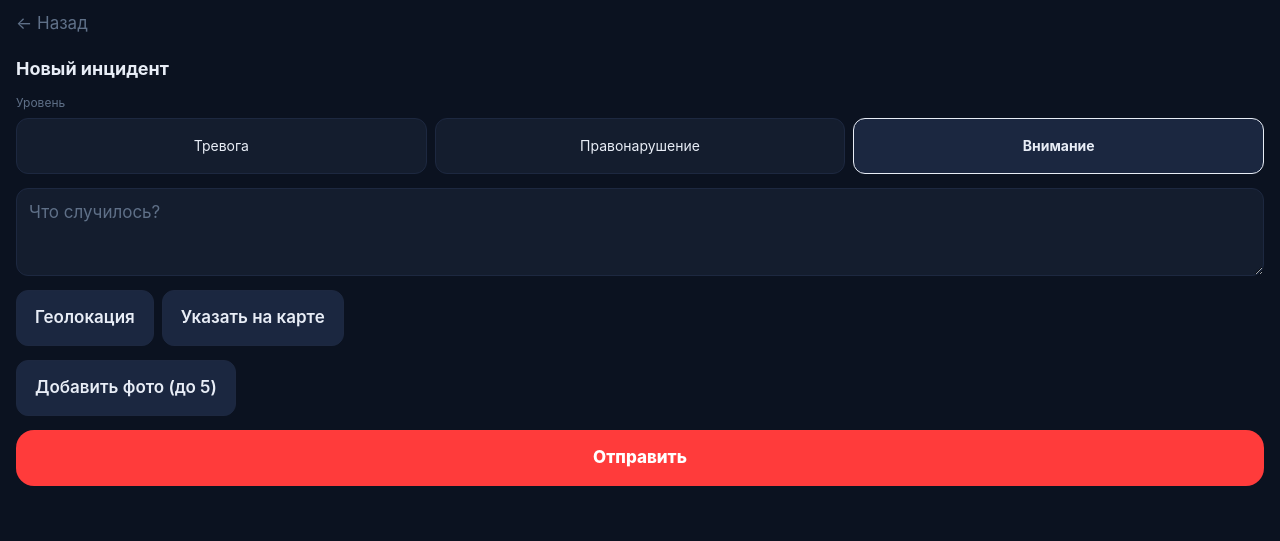
Test: CreateIncident › пустая форма (не-emergency) → ошибка, enqueue не вызван
Click the button "Отправить": (640, 458) [16, 430, 1264, 486]
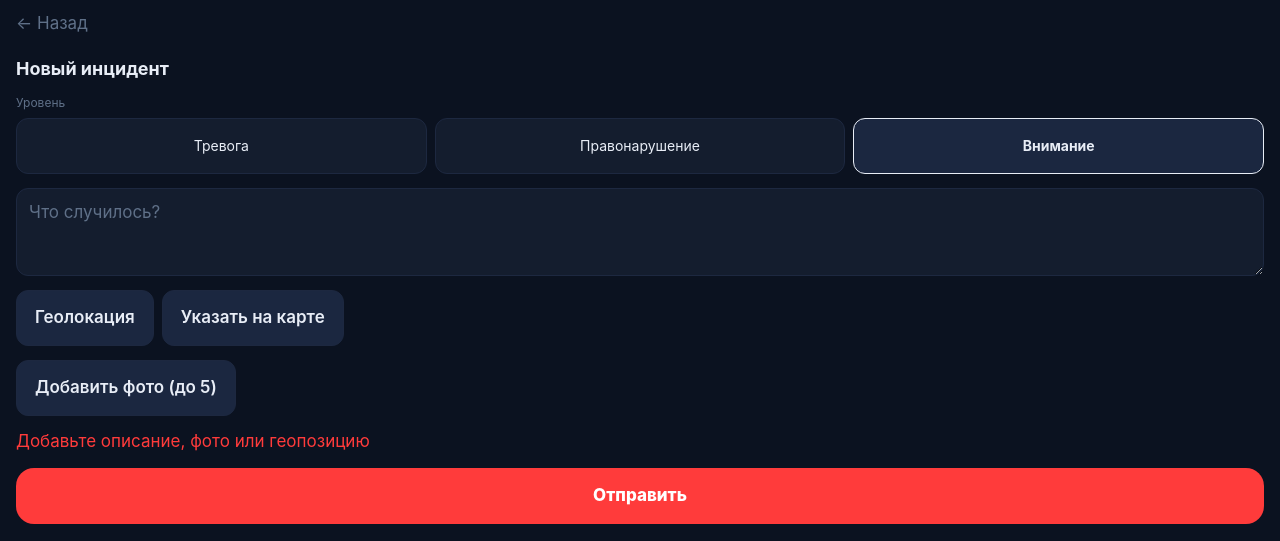
Expected: the message "Добавьте описание, фото или геопозицию" is shown, [16, 431, 370, 451]
